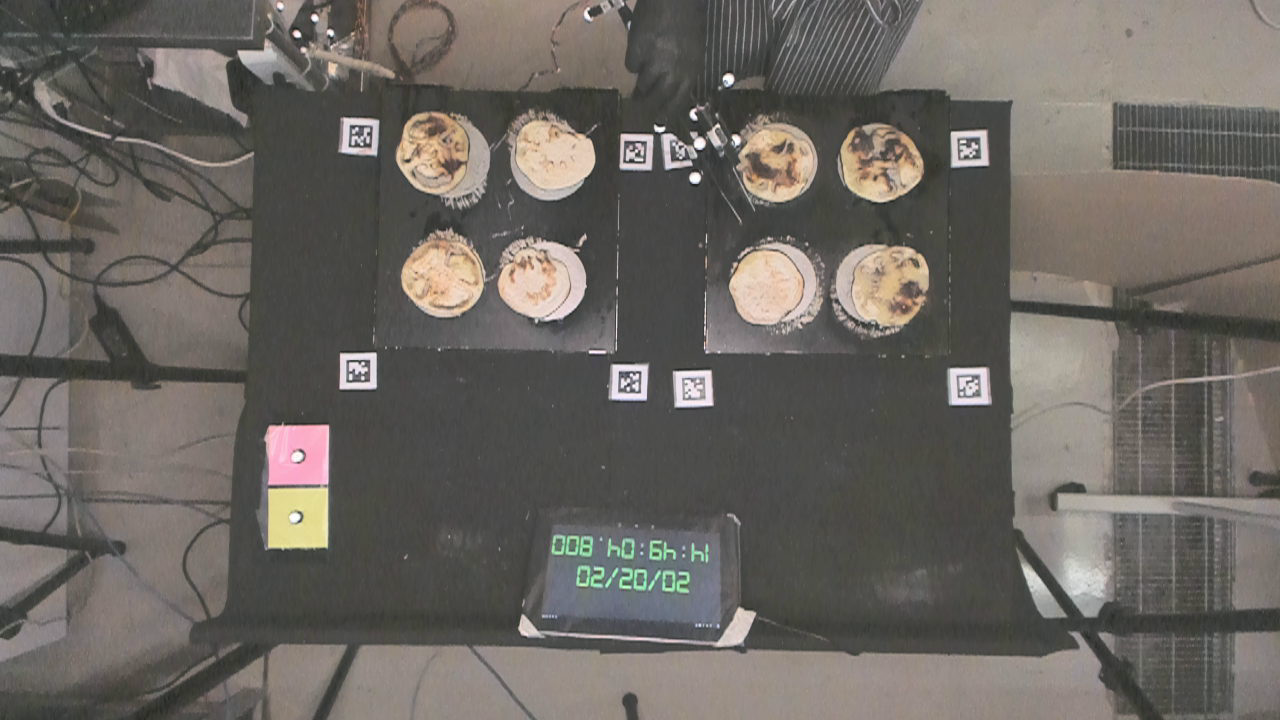eggplant: (837, 125, 925, 204), (399, 240, 484, 319), (724, 248, 805, 328), (397, 111, 475, 194), (733, 128, 816, 206), (853, 245, 929, 329), (513, 119, 599, 191), (496, 250, 570, 320)
marker: (268, 424, 329, 485)
